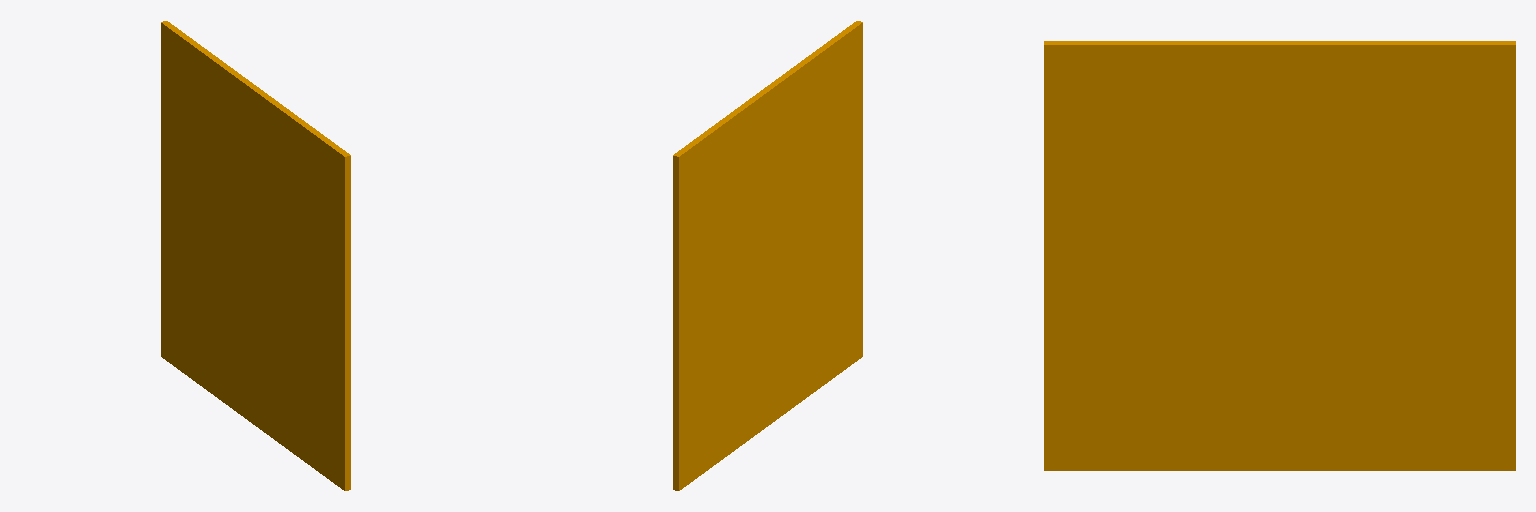
URDF robot description (wall):
<?xml version="1.0"?>
<robot name="wall">
  <material name="wallmat">
    <color rgba="1.00, 0.816, 0.843 1"/>
  </material>

  <link name="wall_link">
    <inertial>
      <origin rpy="0 0 0" xyz="0 0 0"/>
      <mass value="0"/>
      <inertia ixx="0" ixy="0" ixz="0" iyy="0" iyz="0" izz="0"/>
    </inertial>
    <visual>
      <origin rpy="0 0 0" xyz="-0.01 0.00 0.50"/>
      <geometry>
        <box size="0.02 1.00 1.00"/>
      </geometry>
      <material name="wallmat"/>
    </visual>
    <collision>
      <origin rpy="0 0 0" xyz="-0.01 0.00 0.50"/>
      <geometry>
        <box size="0.02 1.00 1.00"/>
      </geometry>
    </collision>
  </link>

</robot>

--- Facts derived from the render (not from the file) ---
The picture shows the robot from 3 angles, left to right: view 1: azimuth 30°, elevation 25°; view 2: azimuth 150°, elevation 25°; view 3: azimuth 270°, elevation 25°; orthographic projection.
Robot: wall — 1 links, 0 joints (none); root link wall_link; default pose: every joint at zero.
Links seen in each view (by area): view 1: wall_link; view 2: wall_link; view 3: wall_link.
Boxes of the visible links, bbox=[...] form: wall_link: bbox=[161, 21, 350, 490]; wall_link: bbox=[673, 21, 862, 490]; wall_link: bbox=[1044, 41, 1515, 470].
Bounding box of the posed robot: 0.02 × 1 × 1 m (x, y, z).
Geometry: primitives only (box / cylinder / sphere), no mesh files.